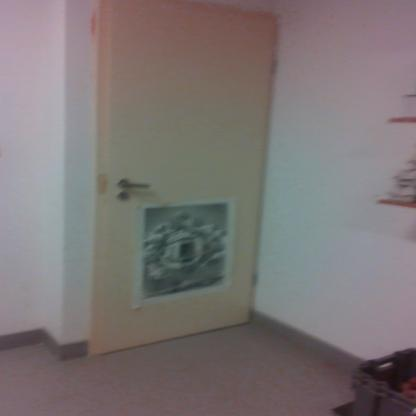door: (105, 0, 255, 334)
hinged: (249, 268, 259, 288), (272, 56, 280, 74)
lever: (120, 179, 154, 189)
